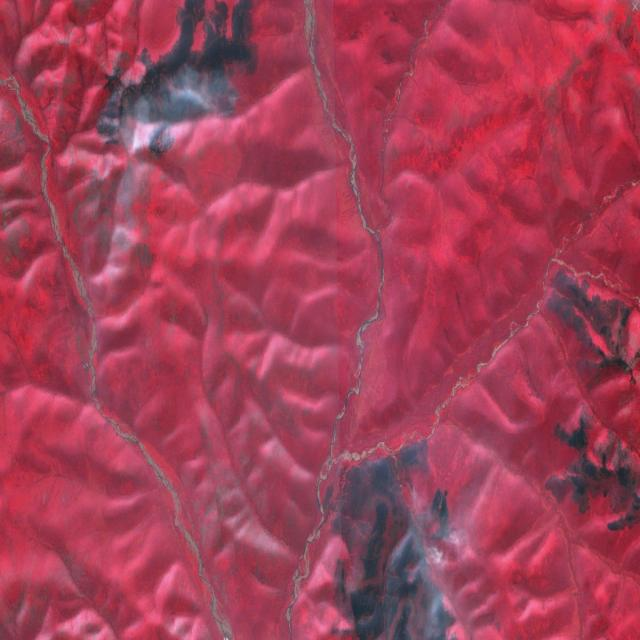fire: (321, 462, 455, 560), (203, 80, 243, 117)
